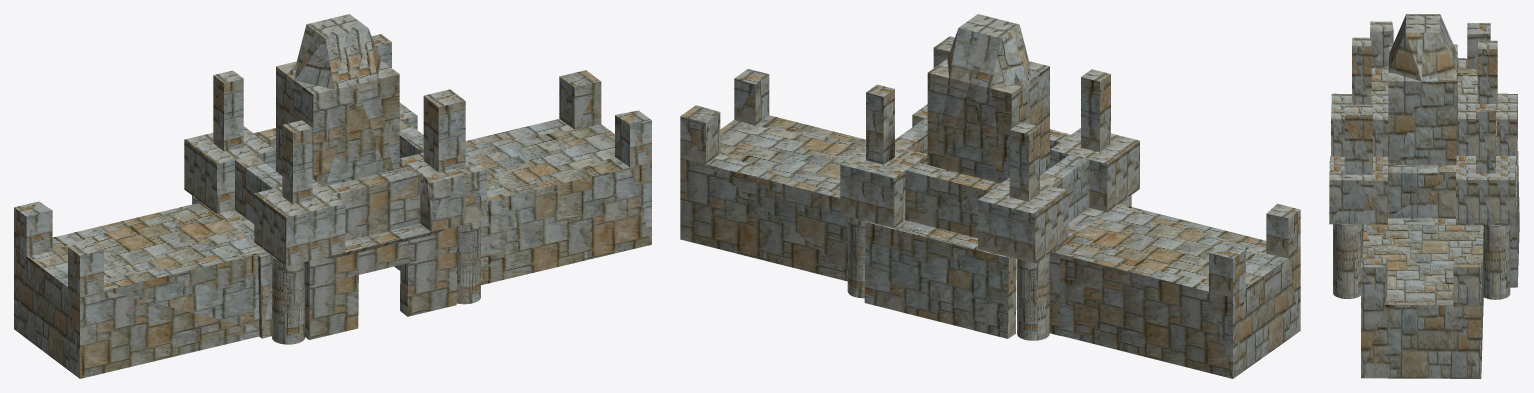
The model's file is castillo.obj.
3 renders of one model, left to right at view 1: azimuth 30°, elevation 25°; view 2: azimuth 150°, elevation 25°; view 3: azimuth 270°, elevation 25°, orthographic. The views are drawn at different scales.
Visible parts, largest first — view 1: Plano.001; view 2: Plano.001; view 3: Plano.001.
Boxes of the visible parts, left/top/right/bottom form: Plano.001: left=14, top=14, right=651, bottom=378; Plano.001: left=680, top=14, right=1300, bottom=378; Plano.001: left=1329, top=14, right=1519, bottom=378.
Bounding box in the file's own units: 83.26 × 36.71 × 27.1.
